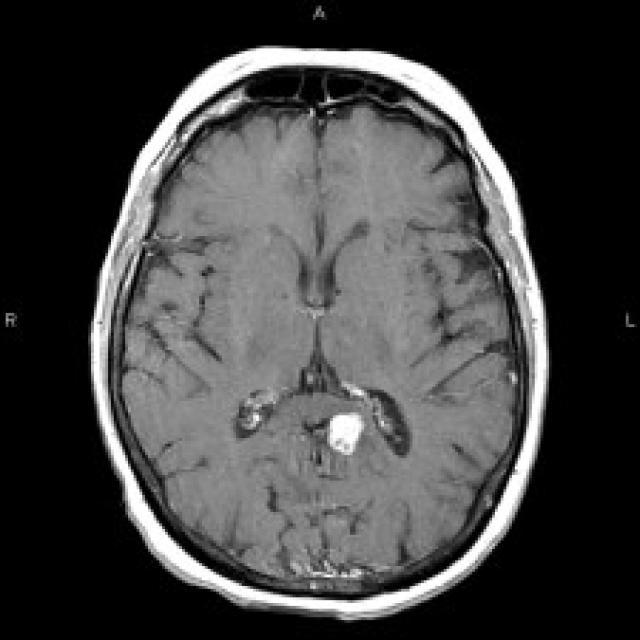notumor: (85, 46, 546, 623)
